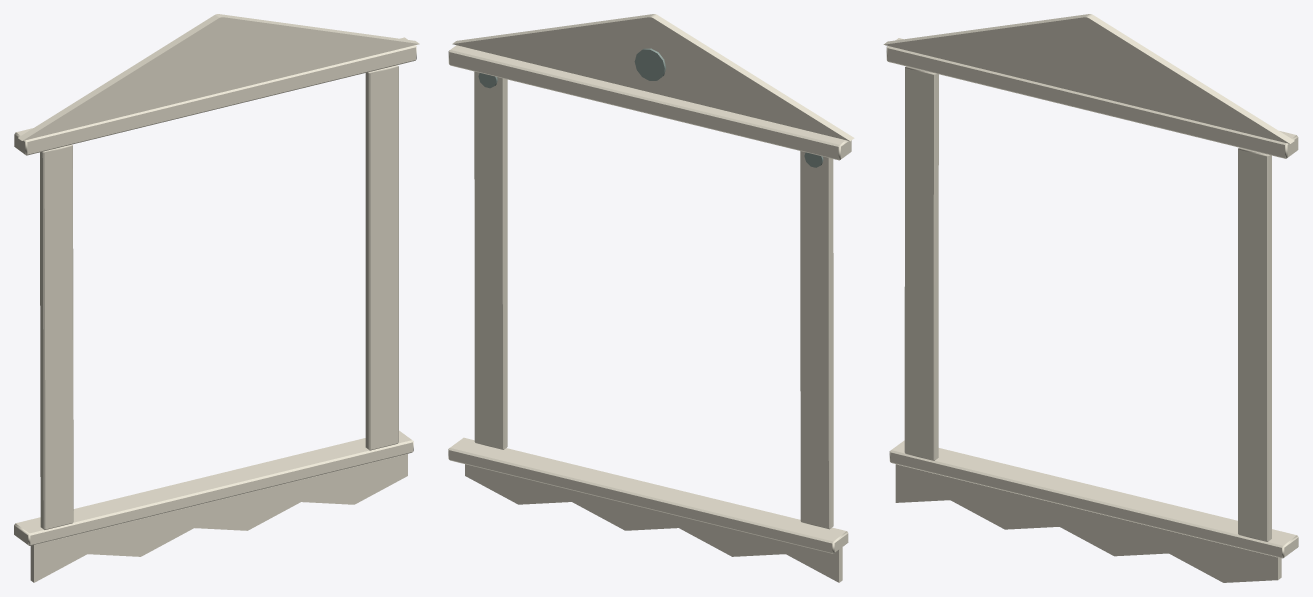
File: window_casing.glb
The picture shows the model from 3 angles, left to right: view 1: azimuth 30°, elevation 25°; view 2: azimuth 150°, elevation 25°; view 3: azimuth 330°, elevation 25°; orthographic projection. The views are drawn at different scales.
Parts seen in each view (by area): view 1: static; view 2: static; view 3: static.
Part boxes in pixels (<box>): static: <box>14,14,419,582</box>; static: <box>448,14,854,582</box>; static: <box>883,14,1298,582</box>.
Size of the model in its own units: 1.32 by 1.65 by 0.0916.
